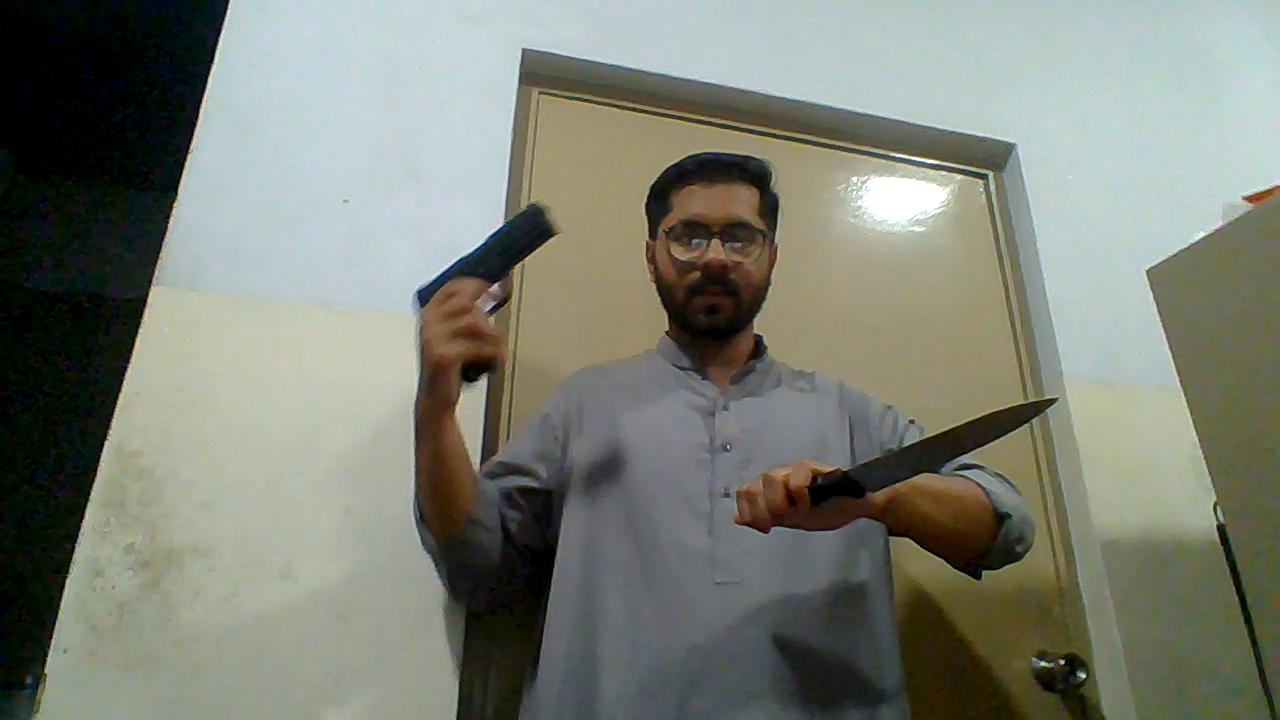criminal: (410, 150, 1063, 720)
weapon: (809, 392, 1064, 503), (410, 199, 559, 384)
